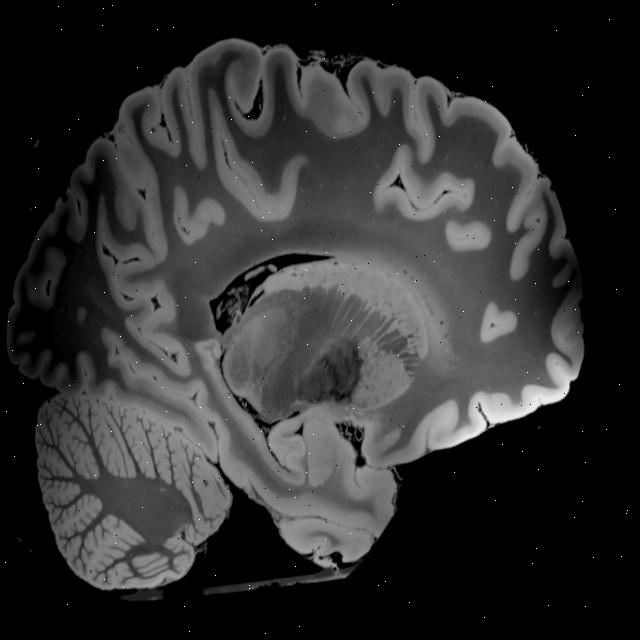NoTumor: (0, 0, 627, 630)
